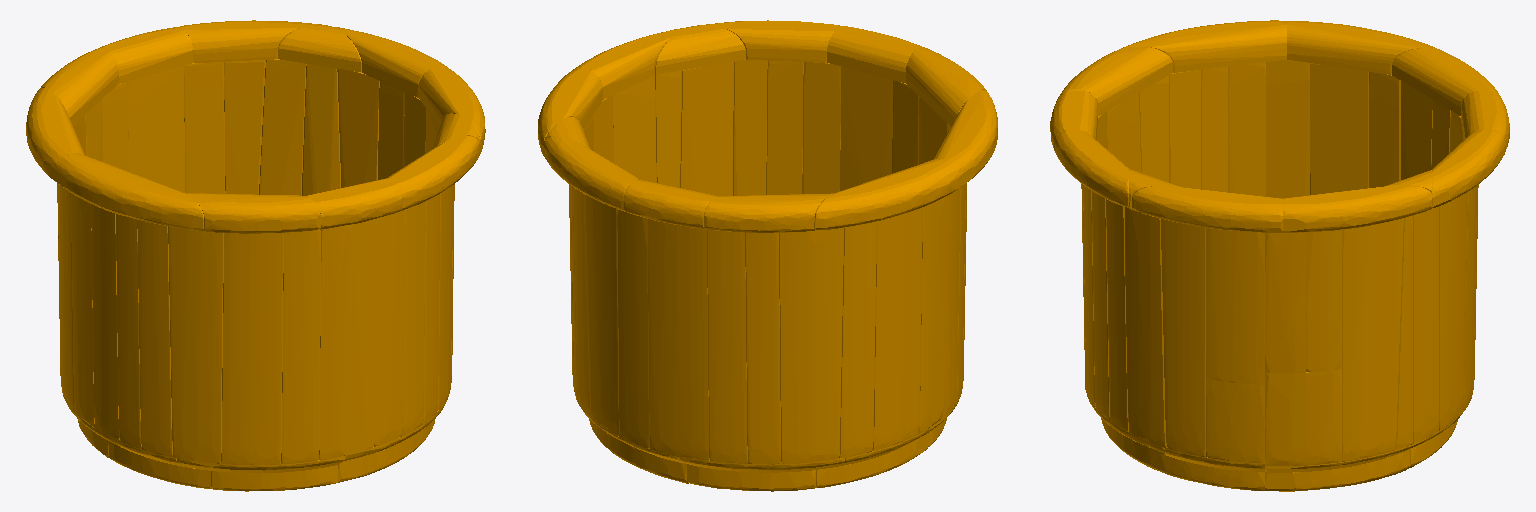
The robot description file, URDF, robot "065-j_cups":
<?xml version="1.0" encoding="UTF-8"?>
<robot name="065-j_cups">
	<link name="base">
		<collision>
			<geometry>
				<mesh filename="..\vhacd\065-j_cups_vhacd.obj" scale="1.0 1.0 1.0"/>
			</geometry>
			<origin xyz="0 0 0"/>
			<contact_coefficients mu="0.24" />
		</collision>
		<visual>
			<geometry>
				<mesh filename="..\vhacd\065-j_cups_vhacd.obj" scale="1.0 1.0 1.0"/>
			</geometry>
			<origin xyz="0 0 0"/>
		</visual>
		<inertial>
			<mass value="0"/>
			<inertia ixx="0.0" ixy="-0.0" ixz="0.0" iyy="0.0" iyz="0.0" izz="0.0" />
			<origin xyz="-0.023169165902613927 -0.016288097891195296 0.03647025622243338"/>
		</inertial>
	</link>
</robot>

--- What the picture shows (computed from the rendered views, not written in the file) ---
The picture shows the robot from 3 angles, left to right: view 1: azimuth 30°, elevation 25°; view 2: azimuth 150°, elevation 25°; view 3: azimuth 270°, elevation 25°; orthographic projection.
Model 065-j_cups with 1 links and 0 joints (none), rooted at base, posed every joint at zero.
Visible links, largest first — view 1: base; view 2: base; view 3: base.
Link boxes in pixels (x1,y1,x2,y2): base: (26,20,485,491); base: (538,20,997,491); base: (1050,20,1509,491).
Size in the robot's own frame: 0.1028 by 0.1032 by 0.0758 metres.
1 mesh visuals loaded from 1 distinct referenced files (1 OBJ).
